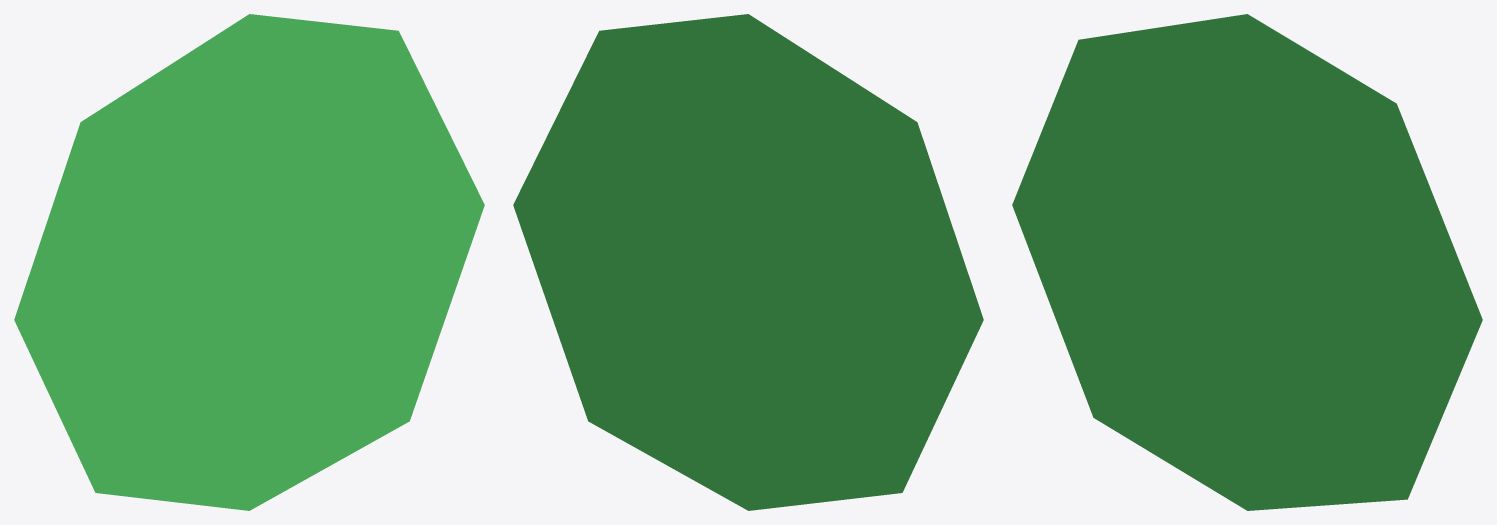
Rendered from fountain Water.fbx.
3 renders of one model, left to right at view 1: azimuth 30°, elevation 25°; view 2: azimuth 150°, elevation 25°; view 3: azimuth 330°, elevation 25°, orthographic.
Visible parts, largest first — view 1: Plane.001; view 2: Plane.001; view 3: Plane.001.
Boxes of the visible parts, x1,y1,x2,y2 form: Plane.001: [14, 14, 484, 510]; Plane.001: [513, 14, 983, 510]; Plane.001: [1012, 14, 1482, 510].
Size of the model in its own units: 9.45 by 9.53 by 2.92e-06.
